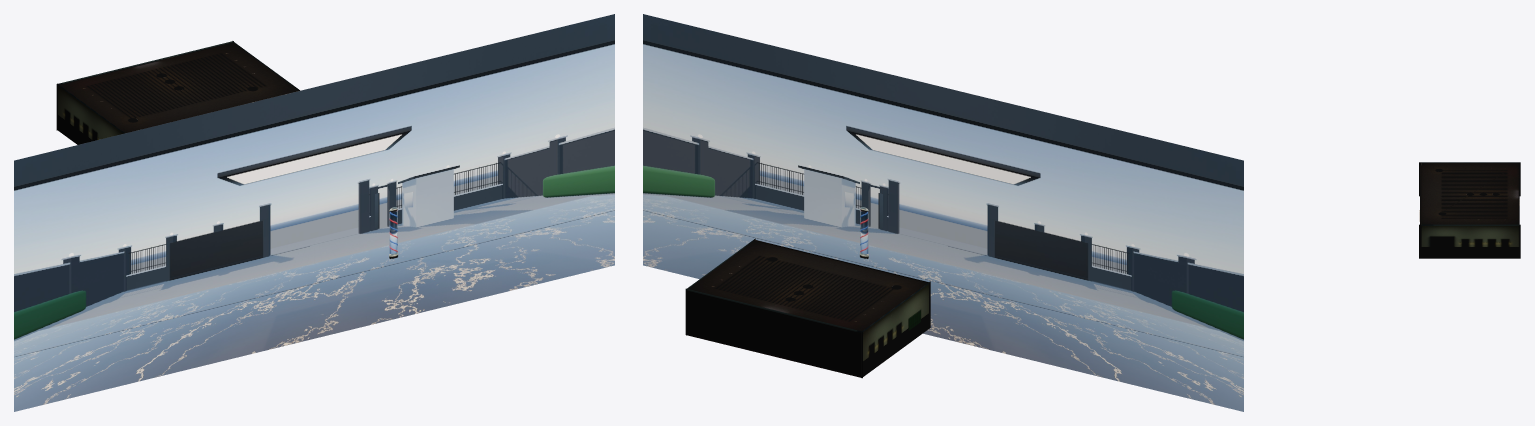
Rendered from int_kings_court.glb.
3 renders of one model, left to right at view 1: azimuth 30°, elevation 25°; view 2: azimuth 150°, elevation 25°; view 3: azimuth 270°, elevation 25°, orthographic. The views are drawn at different scales.
Visible parts, largest first — view 1: VIEW_front, ROOM; view 2: VIEW_front, ROOM; view 3: ROOM.
Part boxes in pixels (bbox=[...]): VIEW_front: bbox=[14, 14, 614, 411]; ROOM: bbox=[56, 41, 299, 144]; VIEW_front: bbox=[643, 14, 1243, 411]; ROOM: bbox=[685, 238, 930, 378]; ROOM: bbox=[1419, 162, 1520, 258].
Size of the model in its own units: 61.71 by 24.68 by 30.22.
Materials: 3 (2 with a texture image).
